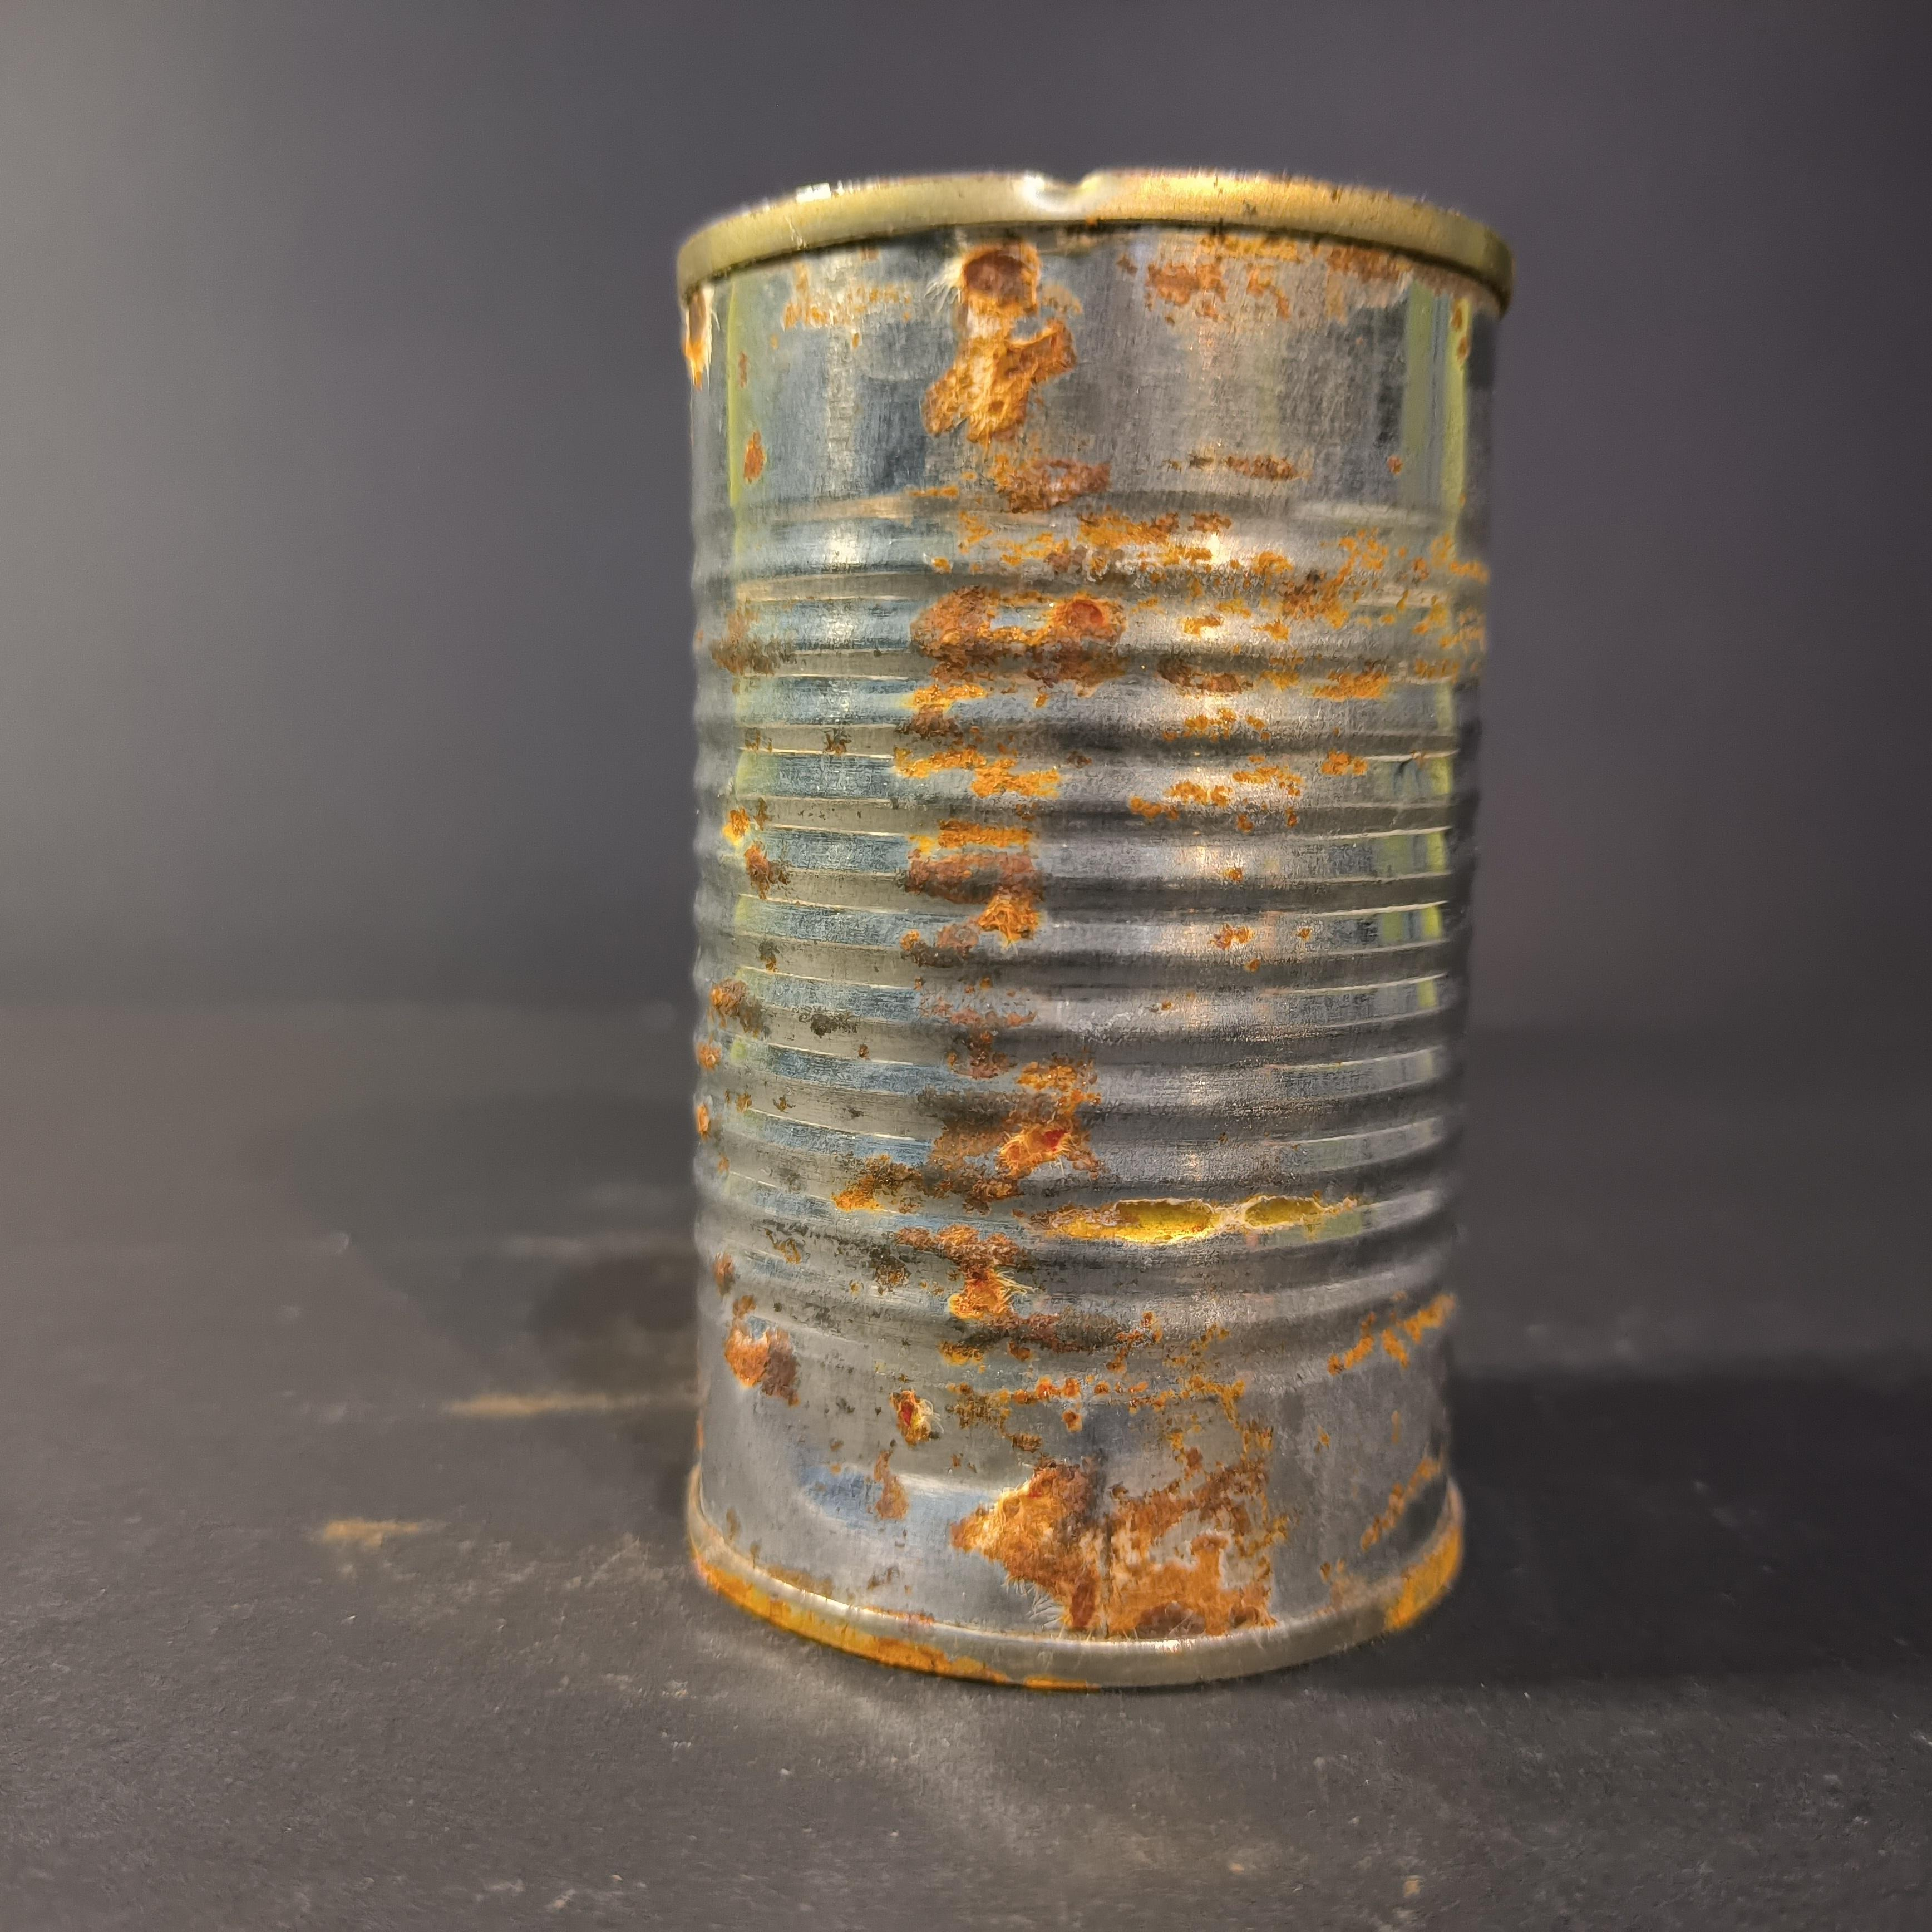Rusted: (646, 159, 1513, 1691)
